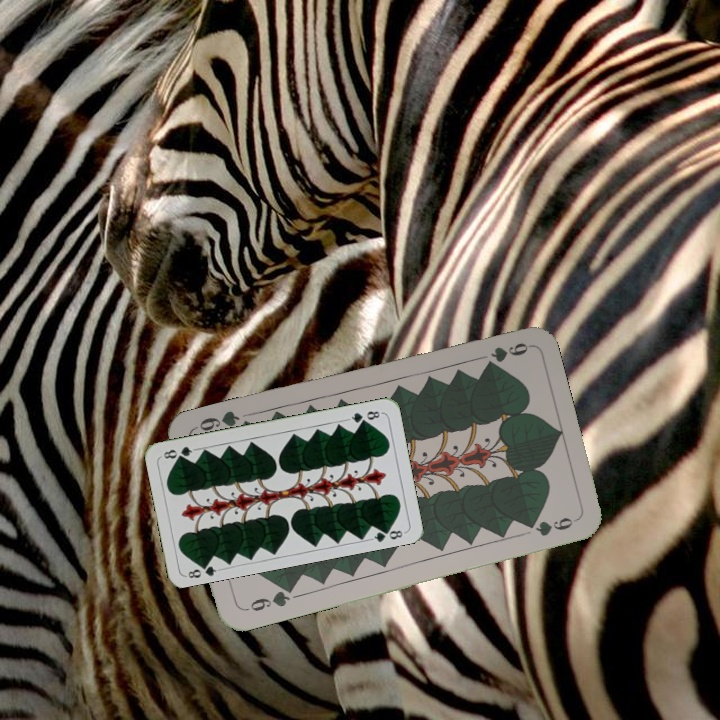G8: (182, 558, 223, 581), (344, 407, 384, 426)
G9: (240, 583, 296, 614), (487, 338, 531, 363)
